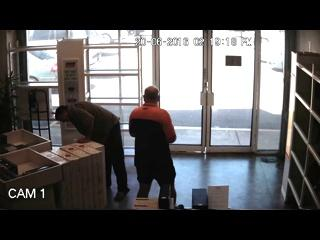Normal: (54, 101, 130, 201), (128, 85, 178, 209)
